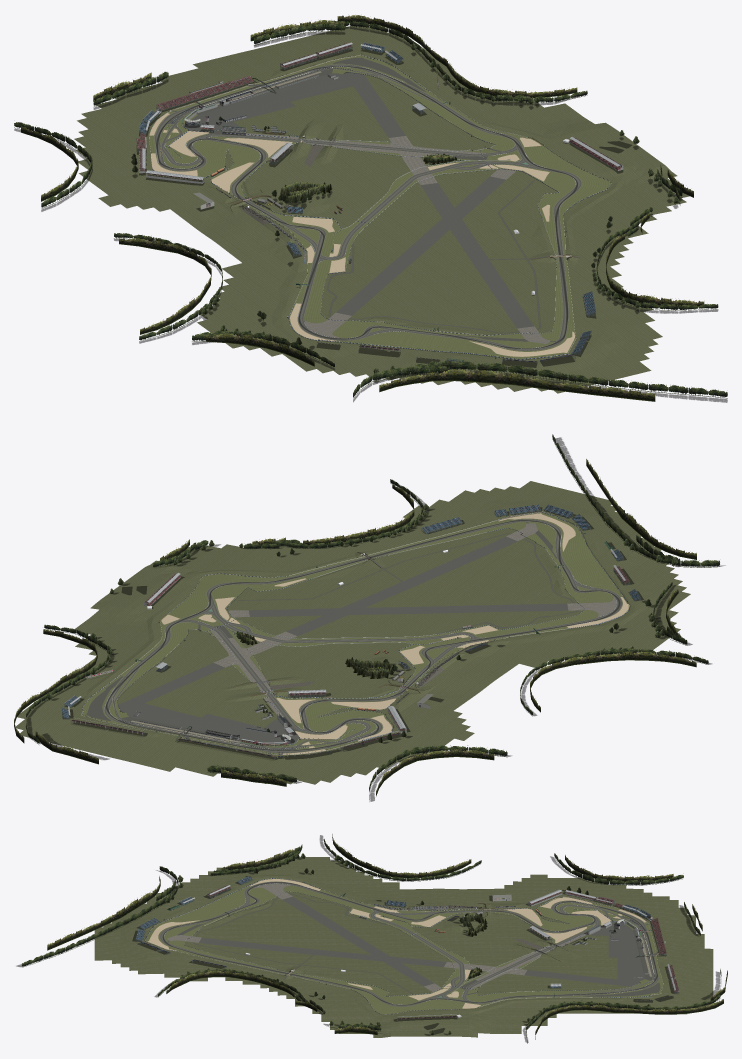
The model's file is silverstone.glb.
The picture shows the model from 3 angles, top to bottom: view 1: azimuth 30°, elevation 25°; view 2: azimuth 150°, elevation 25°; view 3: azimuth 270°, elevation 25°; orthographic projection. The views are drawn at different scales.
Bounding box in the file's own units: 1725 × 48 × 2482.
169 materials, 169 textured.
